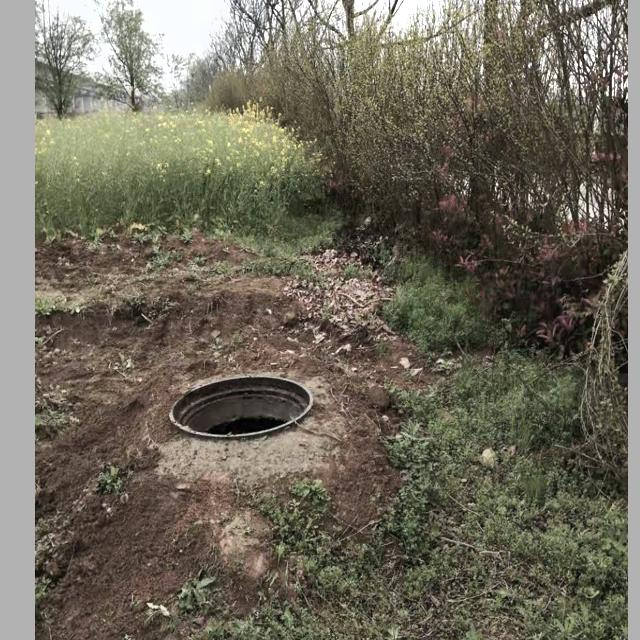lose: (162, 366, 330, 469)
